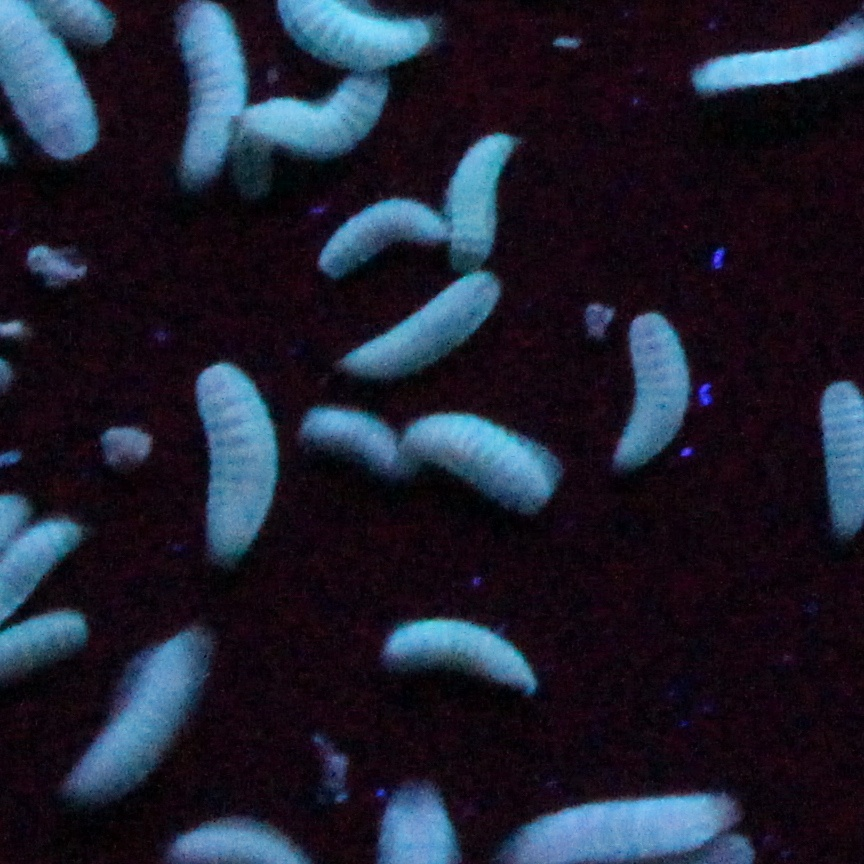larve: (80, 631, 212, 800), (200, 359, 277, 568), (345, 272, 486, 372), (171, 0, 241, 184), (406, 412, 549, 502), (382, 616, 537, 696), (237, 74, 384, 149), (626, 308, 692, 465), (445, 123, 514, 253), (320, 200, 435, 278), (298, 408, 392, 468)
